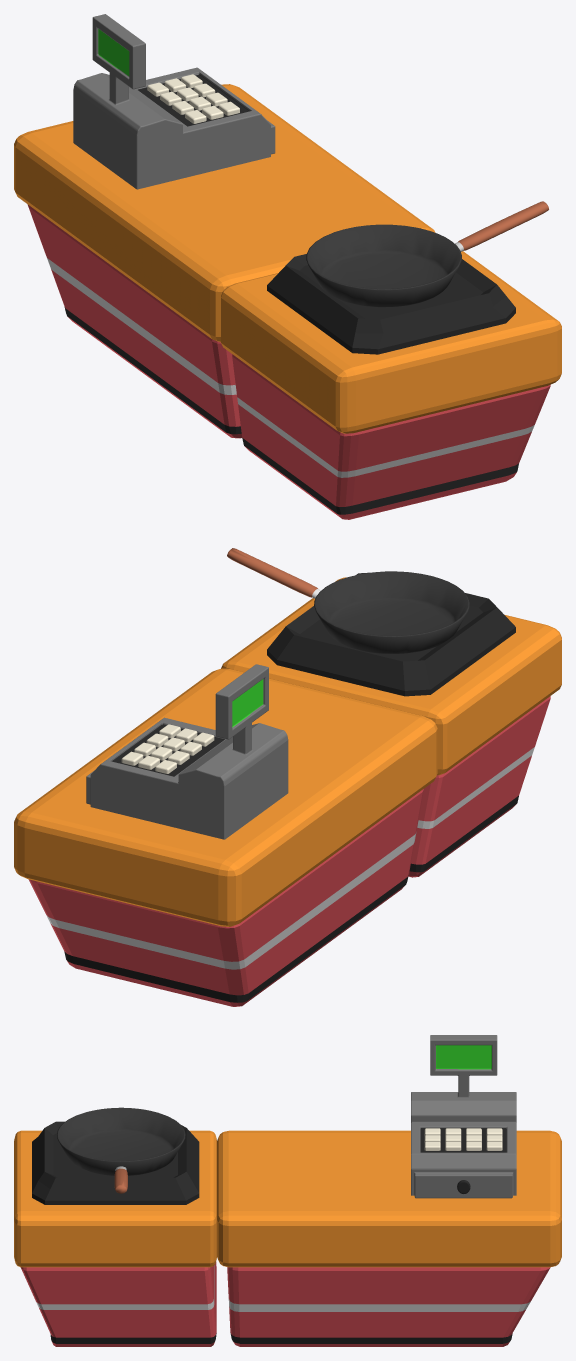
Rendered from counter.fbx.
3 views of the same model, one above another, from view 1: azimuth 30°, elevation 25°; view 2: azimuth 150°, elevation 25°; view 3: azimuth 270°, elevation 25° (orthographic). The views are drawn at different scales.
Visible parts, largest first — view 1: Cube.001; view 2: Cube.001; view 3: Cube.001.
Boxes of the visible parts, bbox=[...] form: Cube.001: bbox=[14, 14, 561, 519]; Cube.001: bbox=[14, 548, 561, 1006]; Cube.001: bbox=[14, 1035, 561, 1346].
Size of the model in its own units: 706 by 358 by 334.
